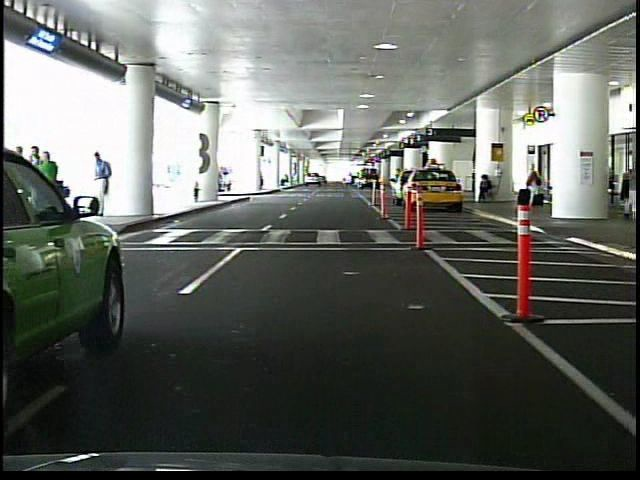person: (41, 150, 70, 233), (12, 144, 34, 220), (618, 155, 640, 220), (95, 151, 116, 214), (31, 143, 47, 211), (527, 161, 544, 208), (477, 171, 497, 203)
